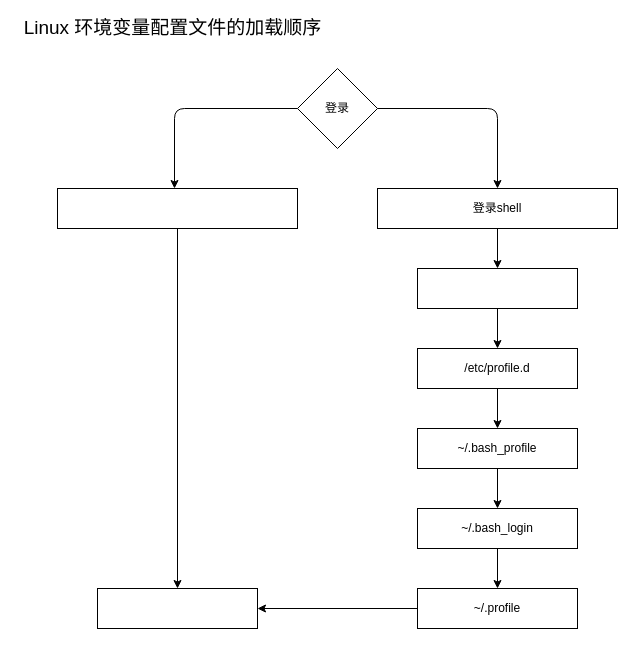
Image size: 635x646. Some labels were removed from this diagram. The shapes that lost their labels are listed below. From the top down, each one's centre as x and y in pixels, then its label:
At point 177,208: "交互式、非登录shell".
At point 497,288: "/etc/profile".
At point 177,608: "~/.bashrc".
